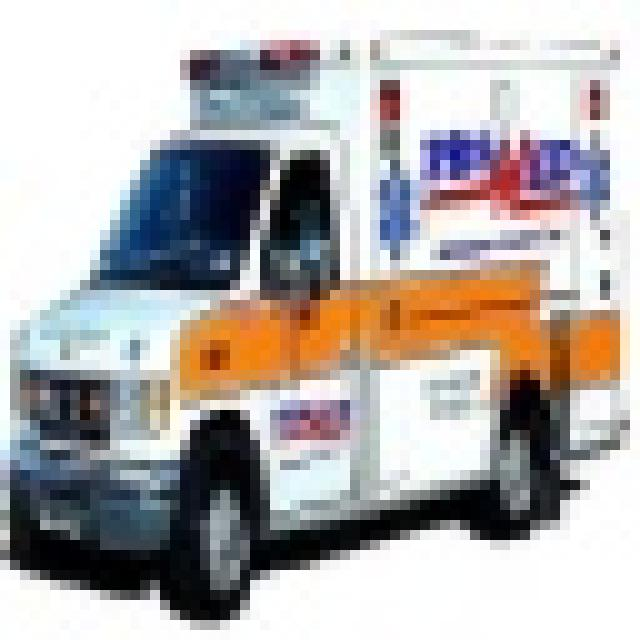Ambulance: (0, 20, 620, 610)
